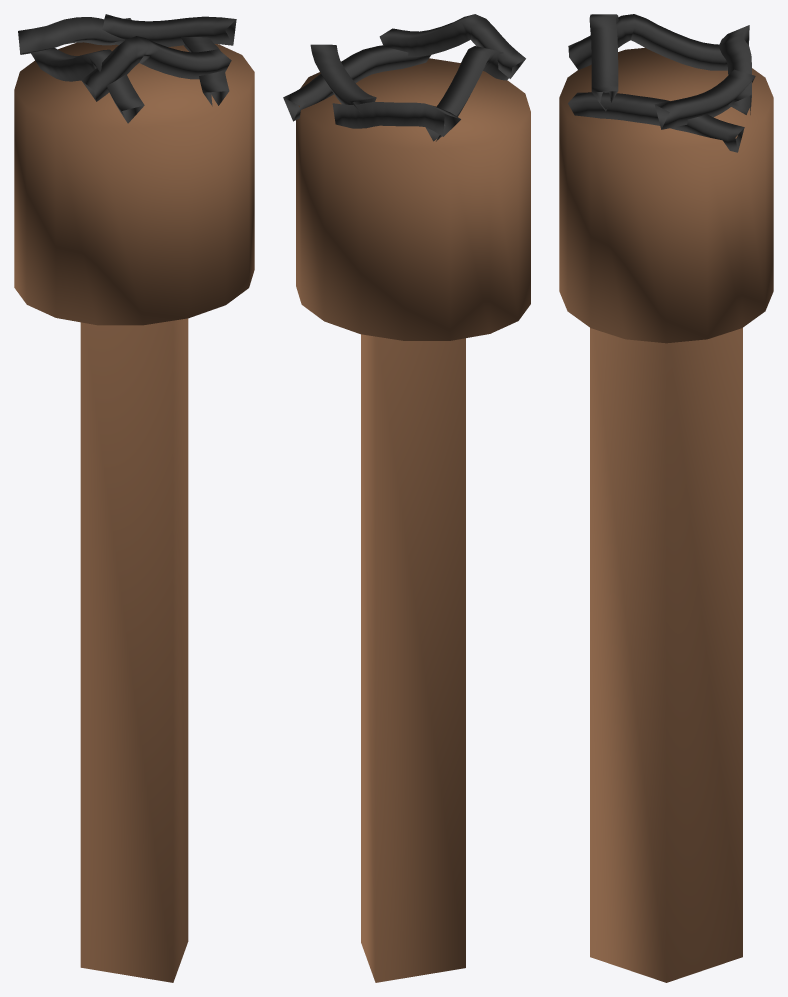
File: meche4.obj
3 views of the same model, side by side, from view 1: azimuth 30°, elevation 25°; view 2: azimuth 150°, elevation 25°; view 3: azimuth 270°, elevation 25° (orthographic). The views are drawn at different scales.
Visible parts, largest first — view 1: Torch, Wick5, Wick4, Wick2, Wick3, Wick1; view 2: Torch, Wick5, Wick3, Wick1, Wick2, Wick4; view 3: Torch, Wick2, Wick1, Wick4, Wick5, Wick3.
Boxes of the visible parts, x1,y1,x2,y2 form: Torch: (14, 42, 254, 982); Wick5: (81, 36, 231, 101); Wick4: (102, 14, 236, 46); Wick2: (31, 48, 144, 123); Wick3: (18, 17, 131, 54); Wick1: (181, 37, 229, 106); Torch: (296, 58, 530, 982); Wick5: (379, 14, 525, 78); Wick3: (332, 102, 460, 136); Wick1: (283, 45, 430, 121); Wick2: (425, 46, 508, 141); Wick4: (310, 44, 376, 112); Torch: (559, 48, 773, 982); Wick2: (568, 14, 727, 70); Wick1: (568, 92, 744, 152); Wick4: (654, 69, 755, 129); Wick5: (589, 14, 618, 111); Wick3: (718, 25, 751, 114).
Bounding box in the file's own units: 0.4 × 1.67 × 0.35.
